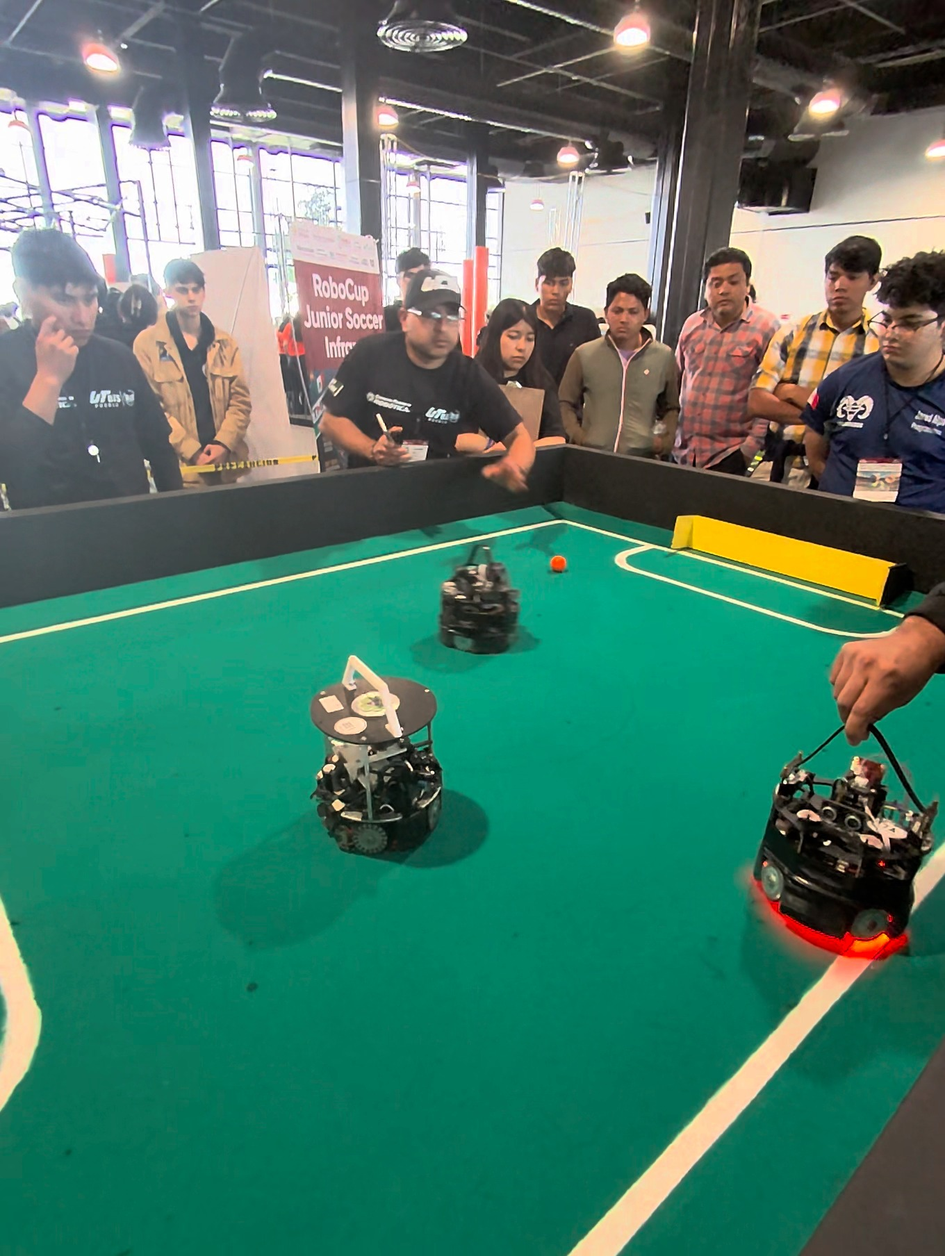Robot: (748, 725, 940, 967), (306, 642, 452, 867), (435, 541, 520, 655)
pelota: (547, 551, 570, 574)
